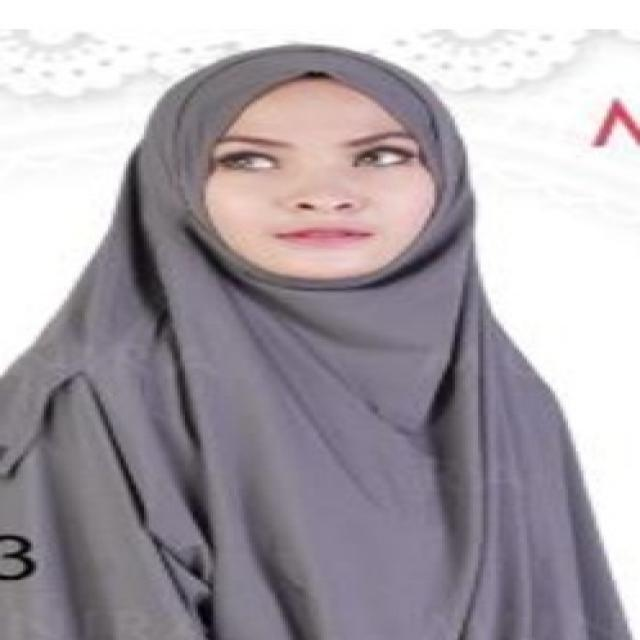head: (149, 40, 481, 296)
